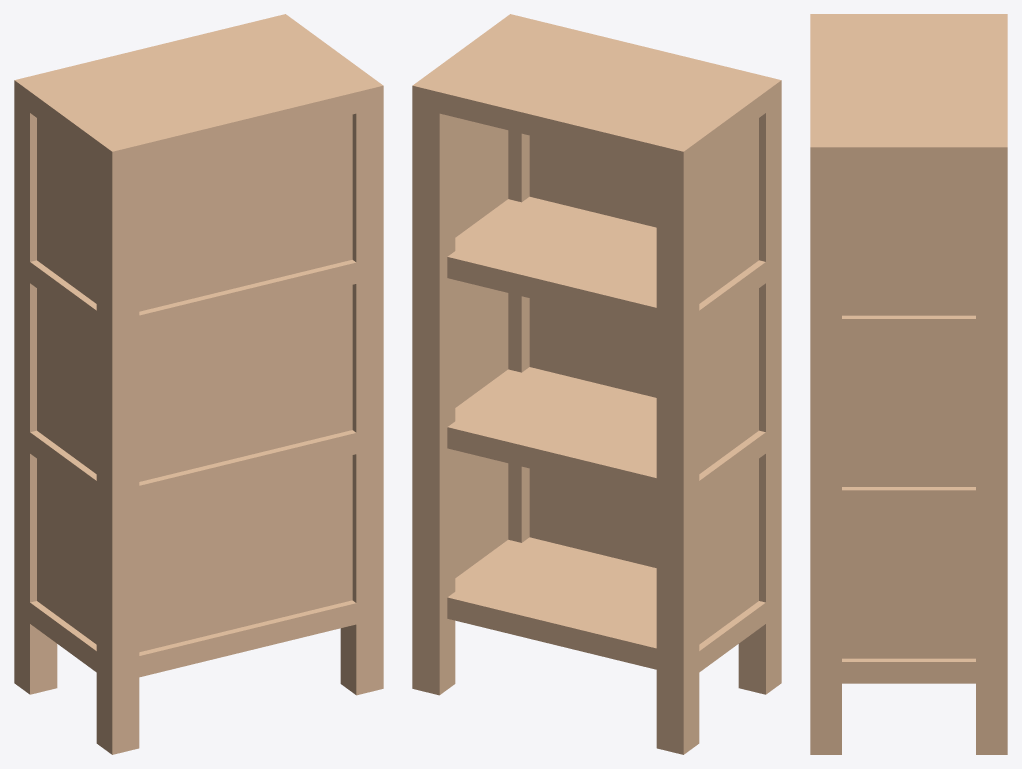
File: bookcaseClosed.gltf
3 views of the same model, side by side, from view 1: azimuth 30°, elevation 25°; view 2: azimuth 150°, elevation 25°; view 3: azimuth 270°, elevation 25° (orthographic).
Parts seen in each view (by area): view 1: bookcaseClosed; view 2: bookcaseClosed; view 3: bookcaseClosed.
Part boxes in pixels (left/top/right/bottom): bookcaseClosed: left=14, top=14, right=383, bottom=754; bookcaseClosed: left=412, top=14, right=781, bottom=754; bookcaseClosed: left=810, top=14, right=1007, bottom=754.
Bounding box in the file's own units: 4 × 8.5 × 2.5.
